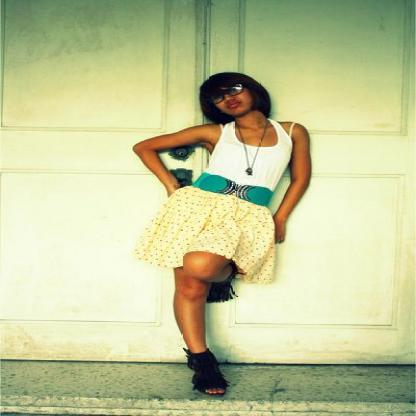shirt: (206, 124, 291, 190)
shoe: (162, 281, 237, 401)
skirt: (133, 175, 284, 284)
